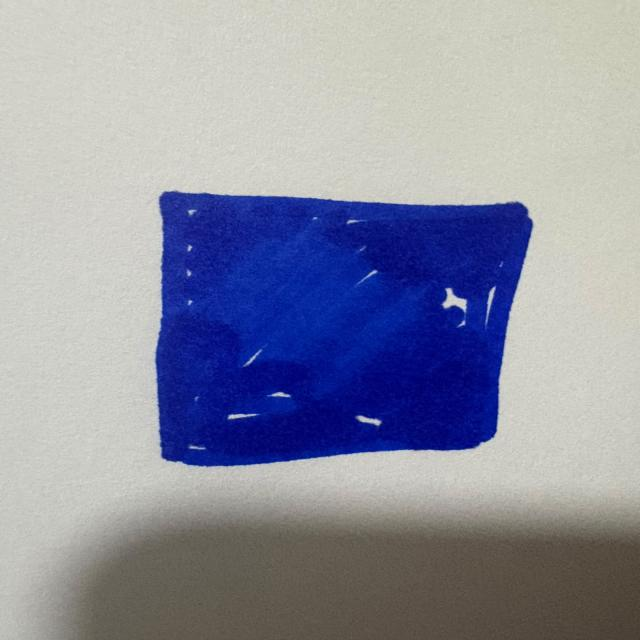Square: (156, 192, 532, 466)
